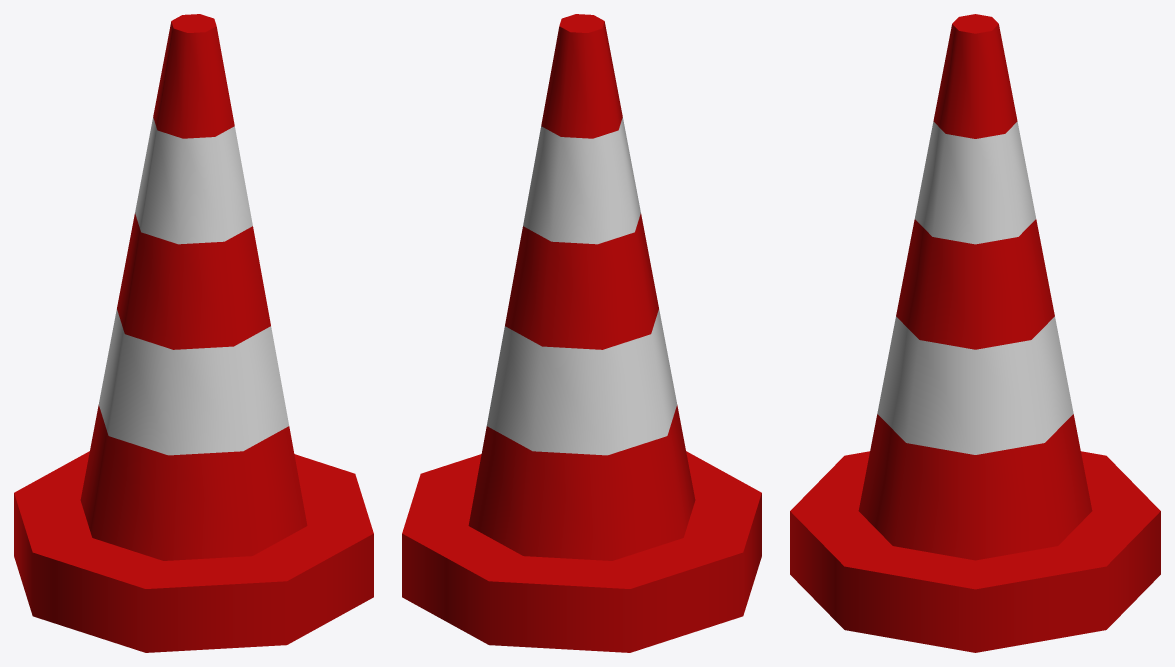
Rendered from Cone_free.fbx.
3 views of the same model, side by side, from view 1: azimuth 30°, elevation 25°; view 2: azimuth 150°, elevation 25°; view 3: azimuth 270°, elevation 25° (orthographic).
Visible parts, largest first — view 1: Cone_free; view 2: Cone_free; view 3: Cone_free.
Boxes of the visible parts, x1,y1,x2,y2 form: Cone_free: (14, 14, 373, 652); Cone_free: (402, 14, 761, 652); Cone_free: (790, 14, 1160, 652).
Size of the model in its own units: 31.72 by 52 by 31.72.
